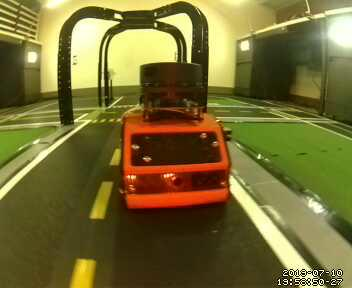pheeno: (118, 59, 236, 211)
